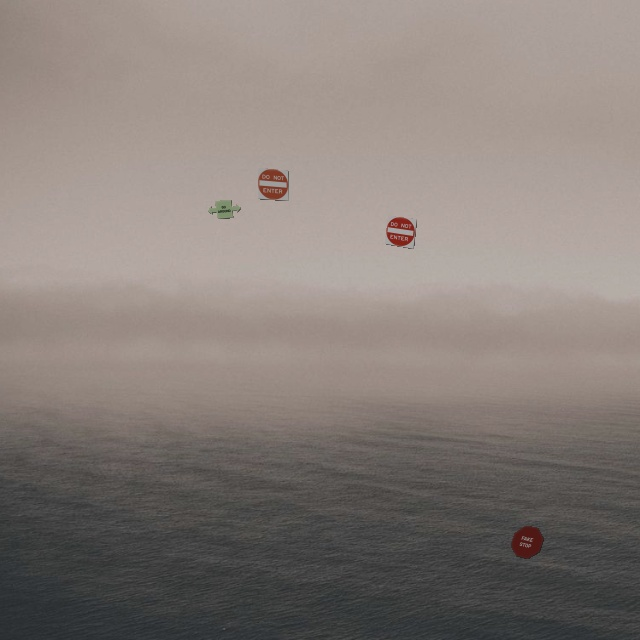DO_NOT_ENTER: (384, 215, 417, 249), (257, 167, 289, 201)
FAKE_STOP: (510, 525, 544, 559)
GO_AROUND: (207, 199, 241, 219)
